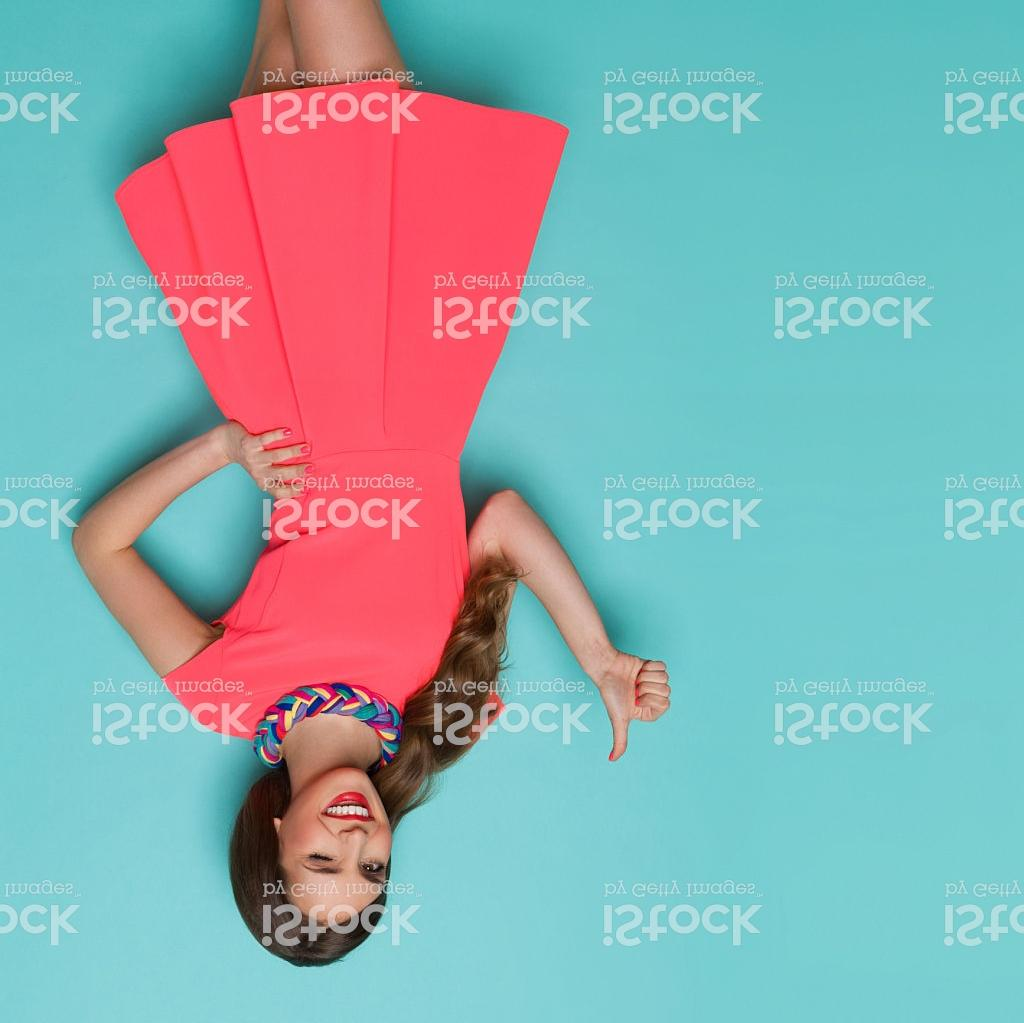thumbsdown: (602, 655, 673, 763)
